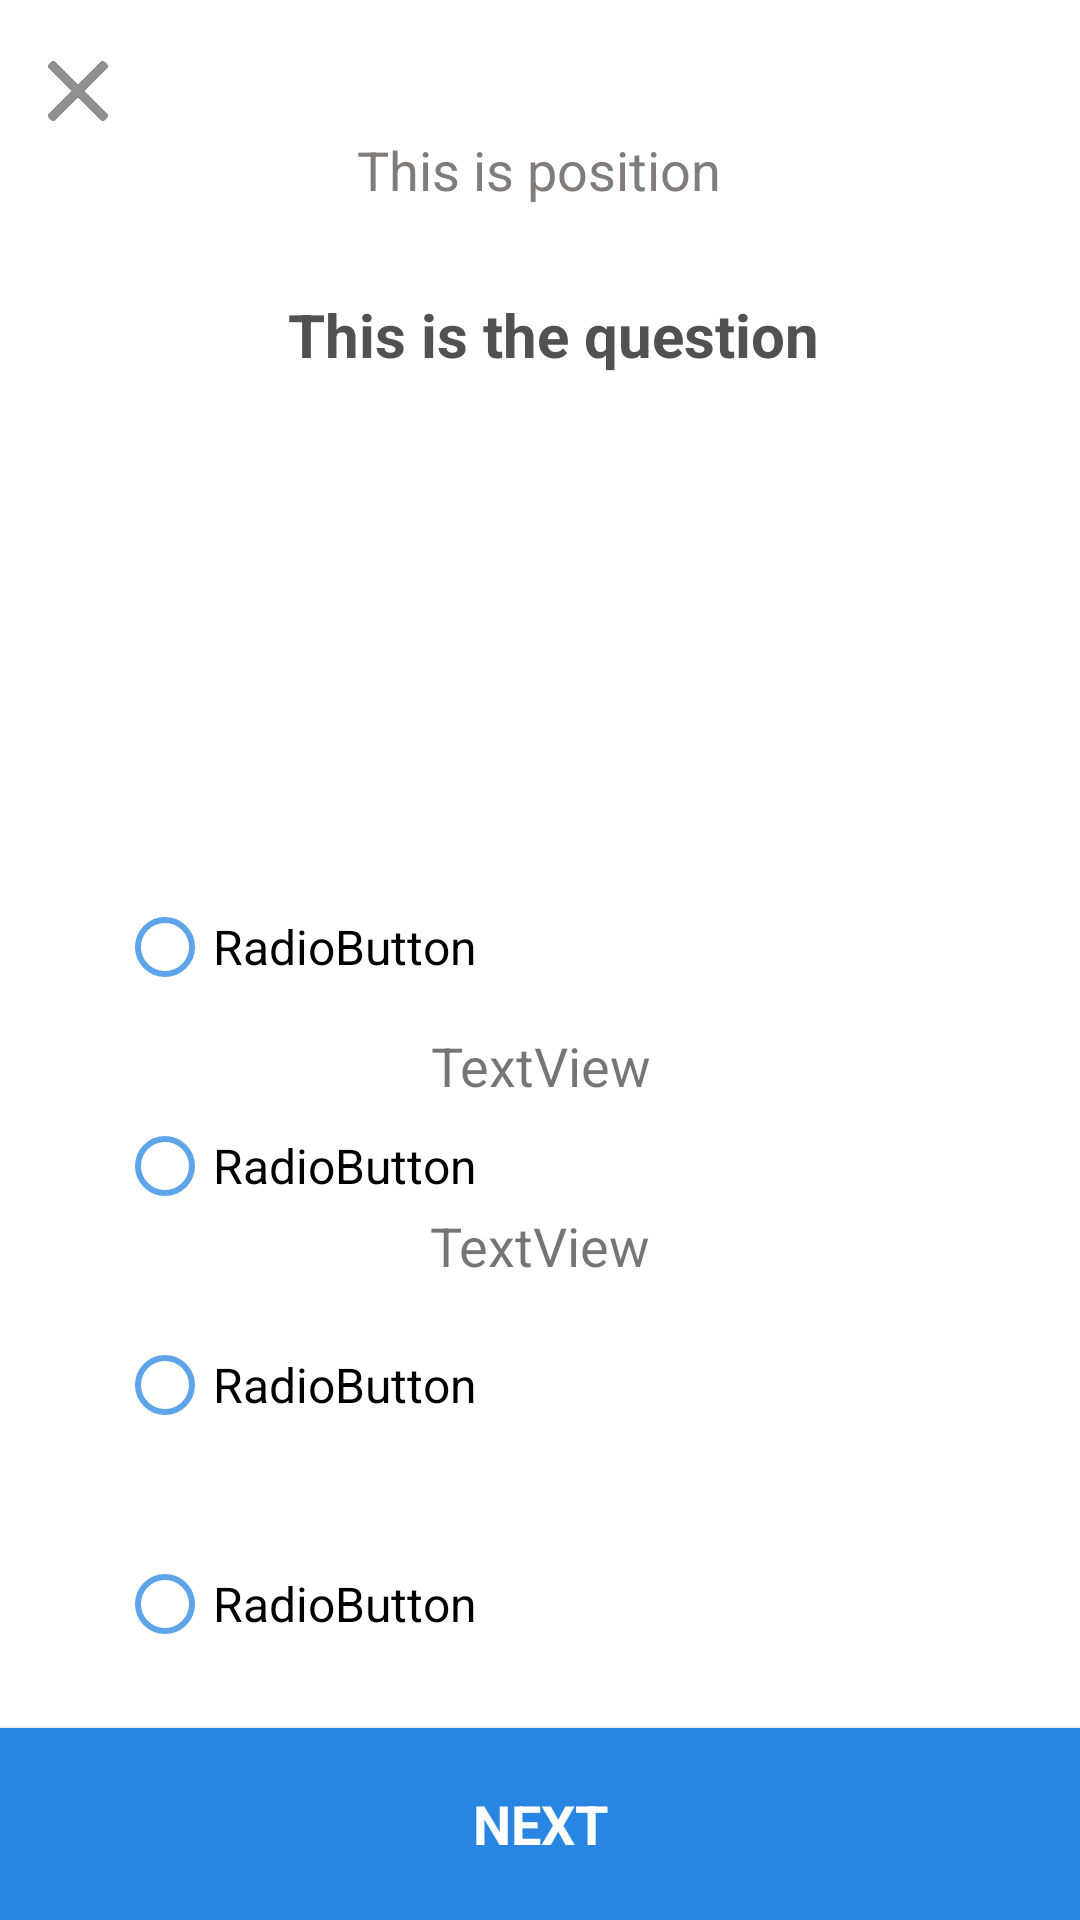

Point at icon controls on the screen. Image size 1080px×1920px, points as point (x, y).
cancel: point (78, 91)
